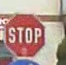stop: (2, 12, 46, 56)
